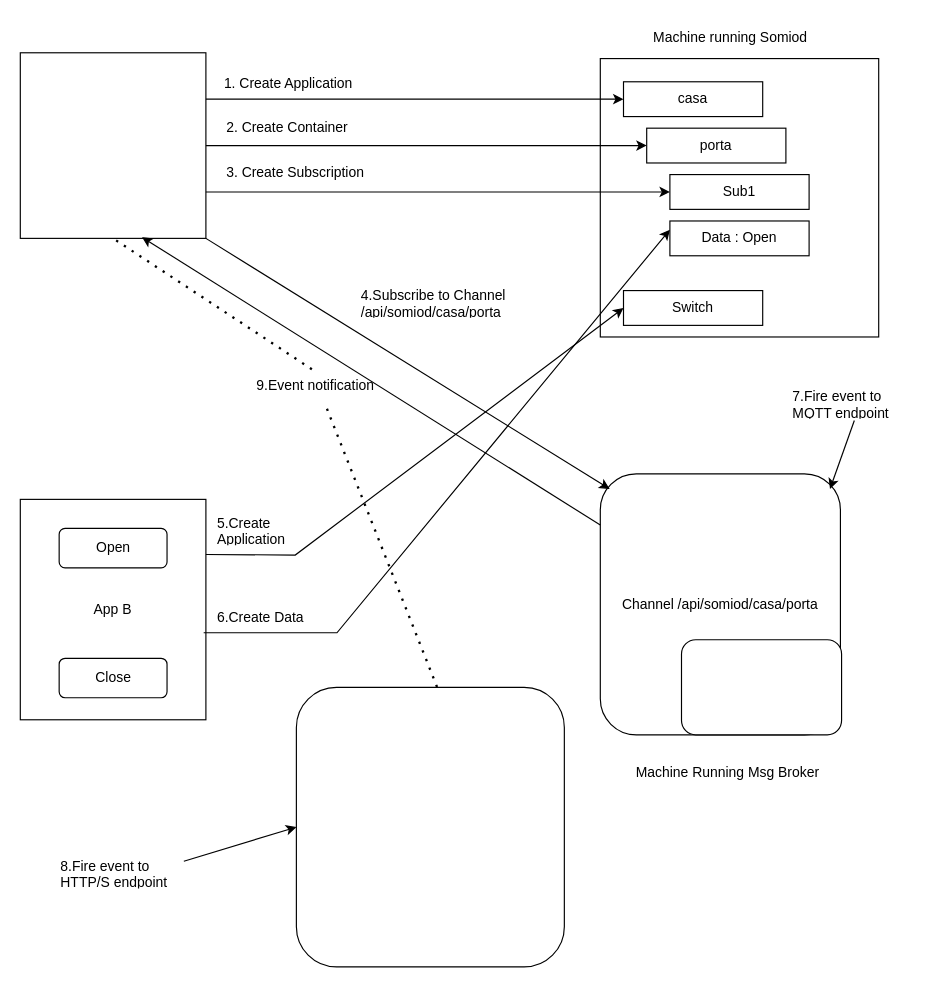
This 942x987 diagram has some shape labels left out. Each missing label, with the centre of its shape:
"App A" belongs at point 112,145.
"External server for HTTP/S notifications (http/s endpoints)" belongs at point 429,826.
"MQTT" belongs at point 761,687.
